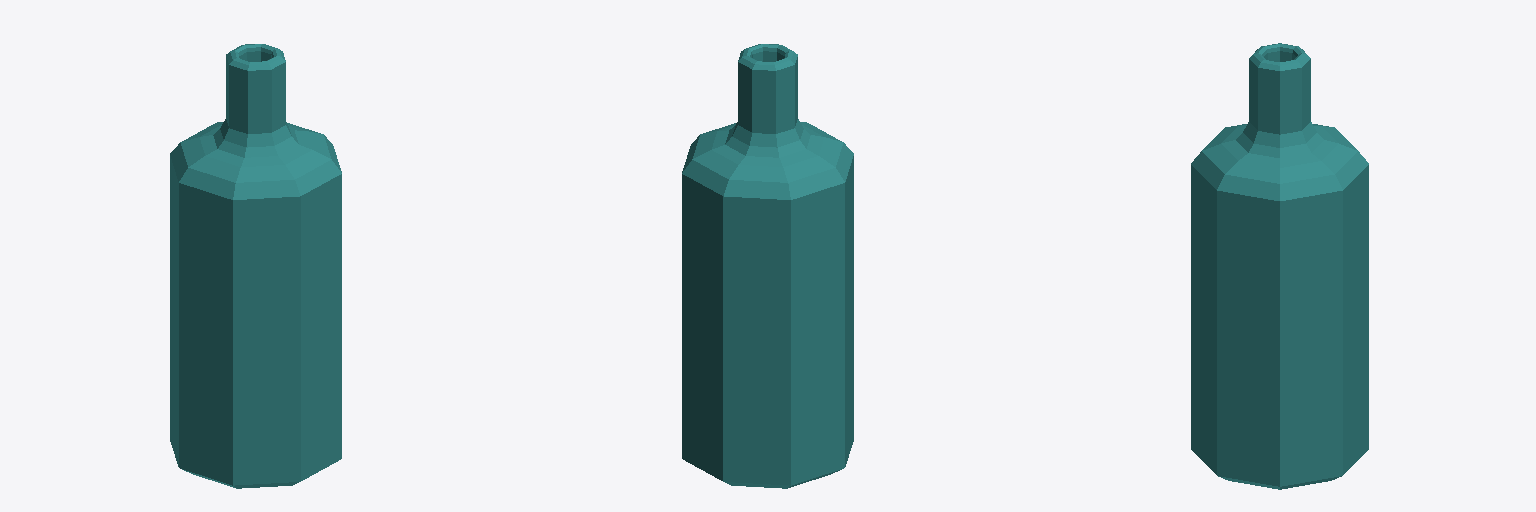
Rendered from bottle-1.obj.
3 renders of one model, left to right at view 1: azimuth 30°, elevation 25°; view 2: azimuth 150°, elevation 25°; view 3: azimuth 270°, elevation 25°, orthographic.
Visible parts, largest first — view 1: Bottle_Cylinder; view 2: Bottle_Cylinder; view 3: Bottle_Cylinder.
Part boxes in pixels (bbox=[...]): Bottle_Cylinder: bbox=[170, 44, 341, 488]; Bottle_Cylinder: bbox=[682, 44, 853, 488]; Bottle_Cylinder: bbox=[1191, 43, 1368, 489].
Size of the model in its own units: 0.136 by 0.3412 by 0.136.